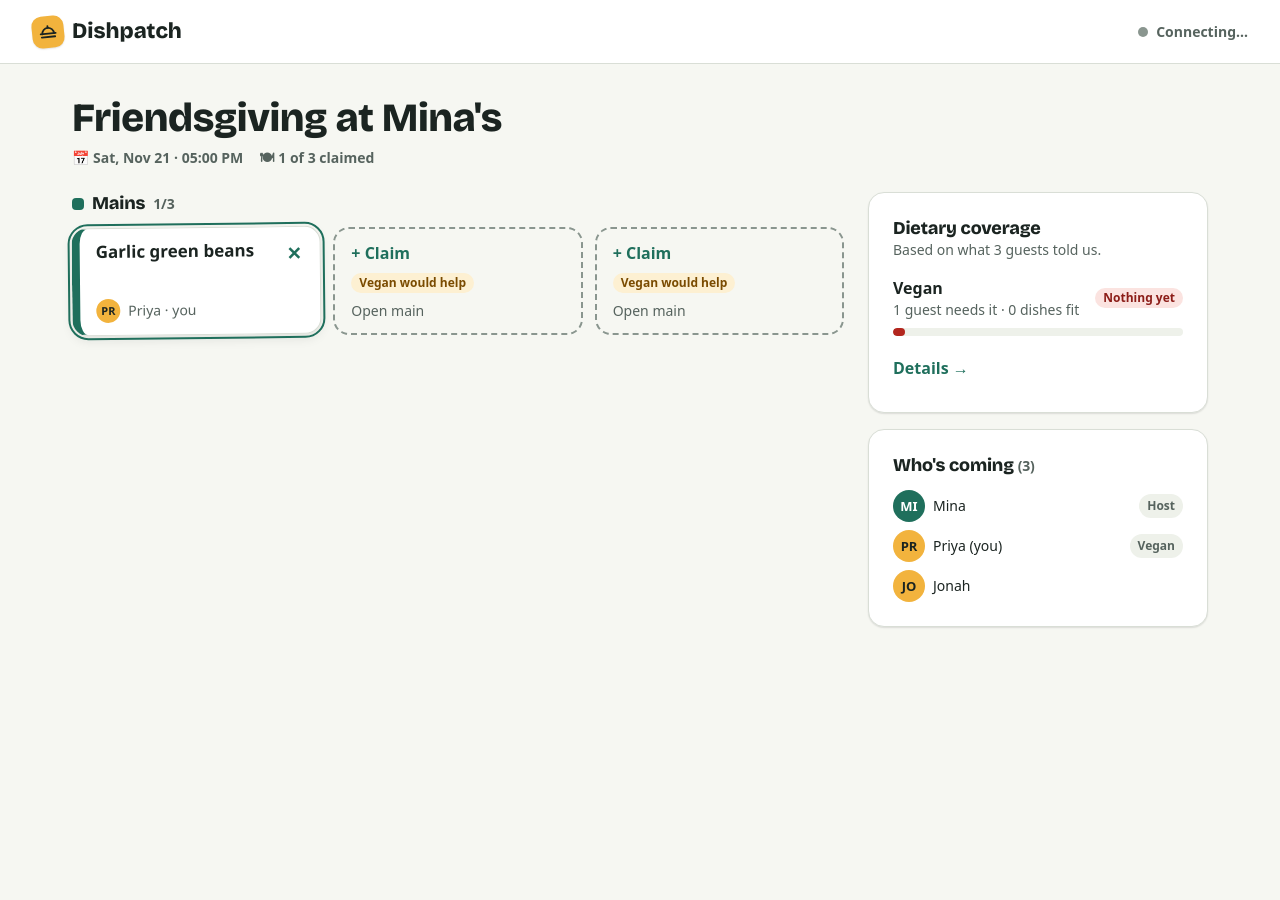
Test case: release › rolls back and explains a 403 NOT_OWNER
Click the button named "Release your Mains slot".
click(294, 253)  # box left=274, top=233, right=314, bottom=274
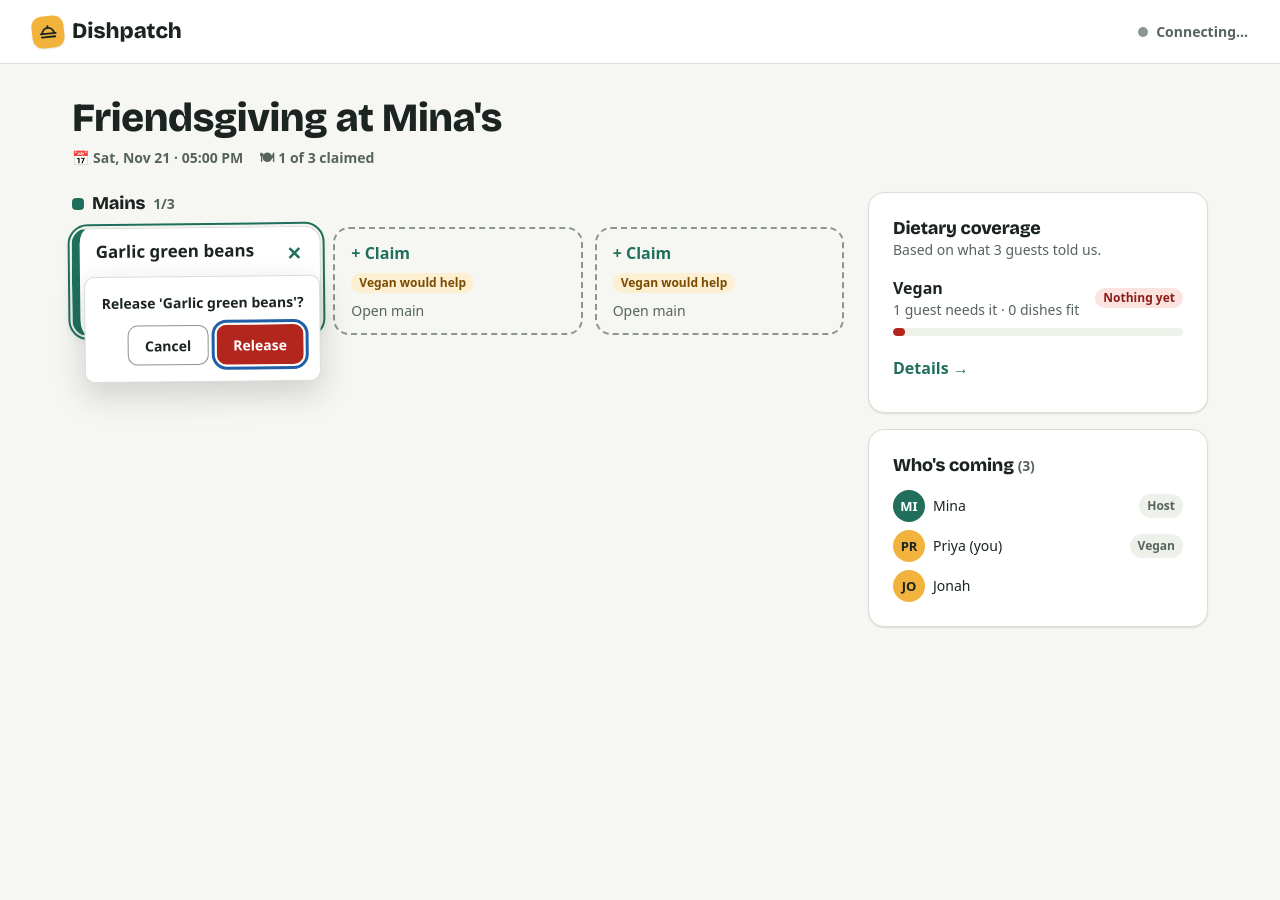
Click the button "Release".
click(260, 345)  # box left=216, top=324, right=304, bottom=365
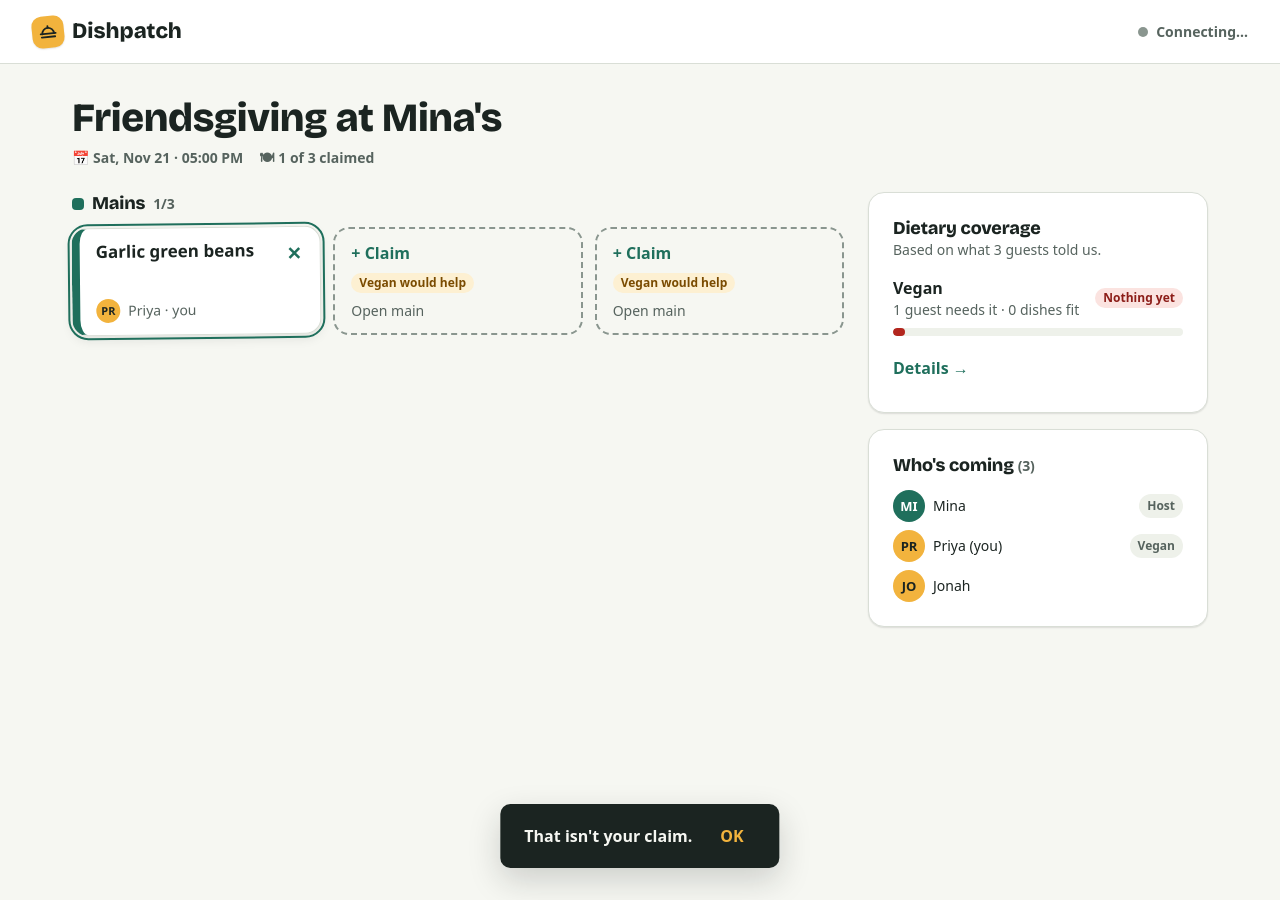
Expected: the element "Garlic green beans PR Priya · you ✕" is shown, left=71, top=226, right=322, bottom=337
Now the text "That isn't your claim." is shown, box left=524, top=825, right=692, bottom=847
